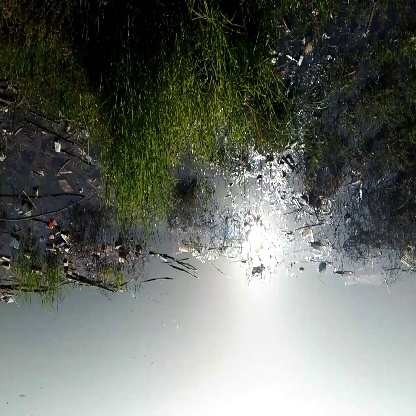branch: (3, 196, 89, 227)
